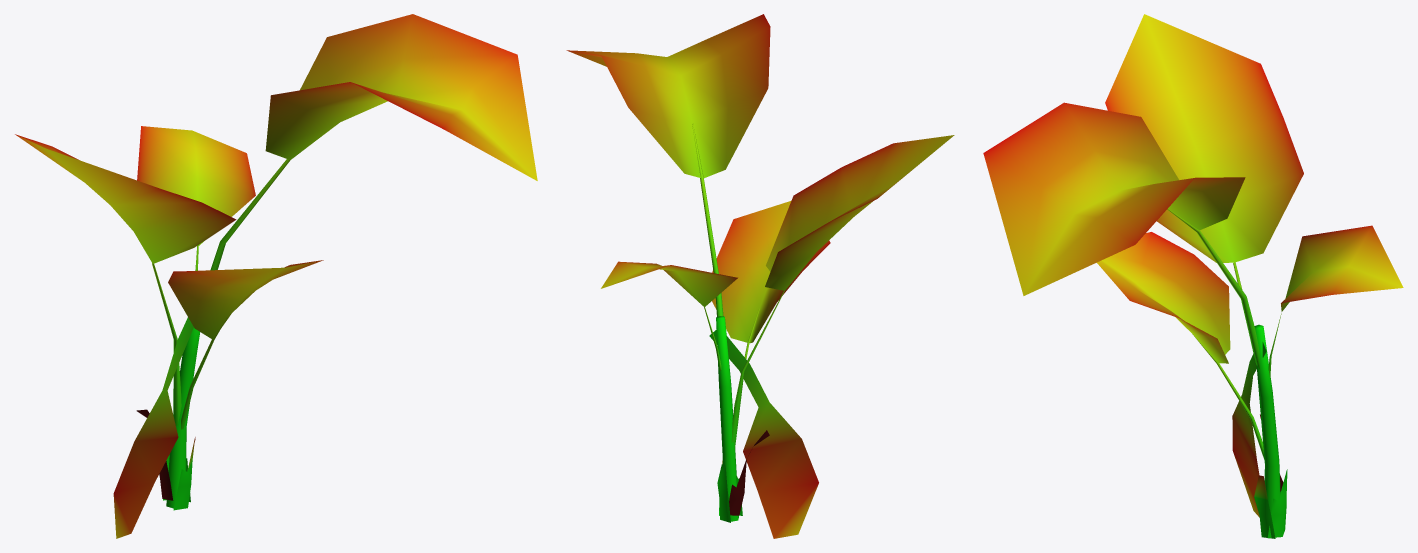
The model's file is Cat Palm_LOD2_Var4_tjejafeia.fbx.
The picture shows the model from 3 angles, left to right: view 1: azimuth 30°, elevation 25°; view 2: azimuth 150°, elevation 25°; view 3: azimuth 270°, elevation 25°; orthographic projection. The views are drawn at different scales.
Parts seen in each view (by area): view 1: _855a_Var4_LOD2; view 2: _855a_Var4_LOD2; view 3: _855a_Var4_LOD2.
Boxes of the visible parts, <box> form: _855a_Var4_LOD2: <box>15,14,537,538</box>; _855a_Var4_LOD2: <box>566,14,954,538</box>; _855a_Var4_LOD2: <box>983,14,1403,538</box>.
Size of the model in its own units: 67.44 by 69.44 by 55.72.
